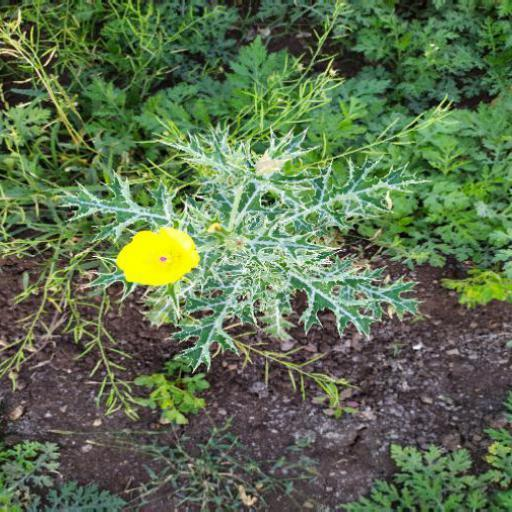weed: (11, 3, 476, 380)
